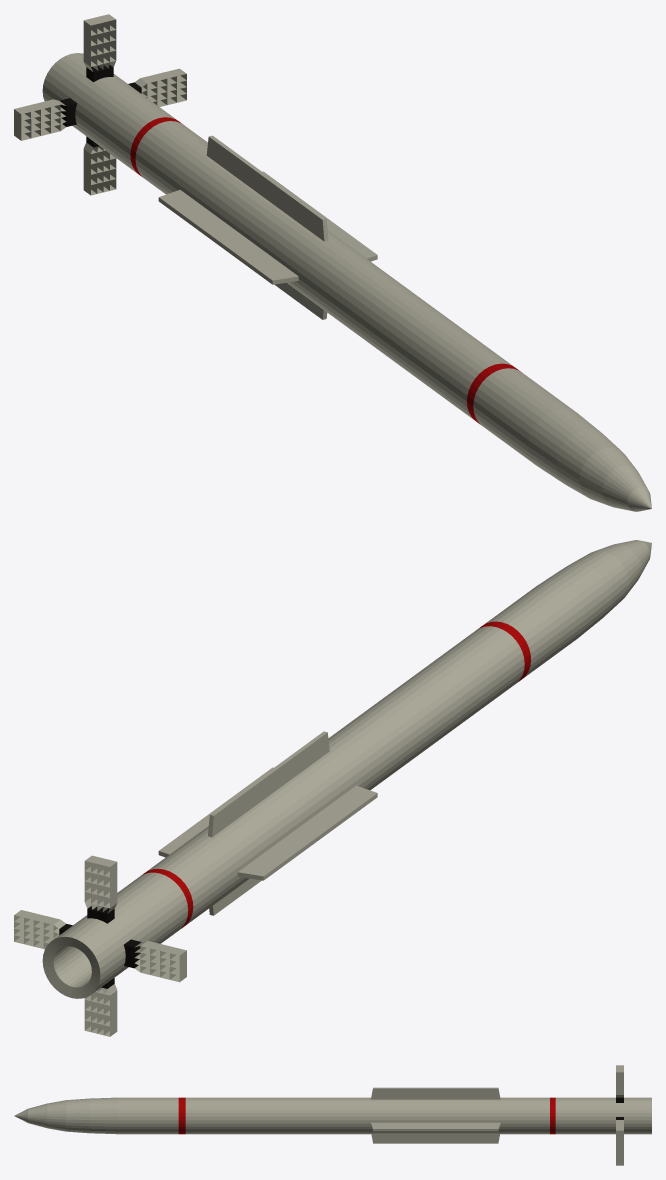
File: missile.obj
3 renders of one model, top to bottom at view 1: azimuth 30°, elevation 25°; view 2: azimuth 150°, elevation 25°; view 3: azimuth 270°, elevation 25°, orthographic. The views are drawn at different scales.
Parts seen in each view (by area): view 1: Cylinder; view 2: Cylinder; view 3: Cylinder.
Boxes of the visible parts, left/top/right/bottom form: Cylinder: left=14, top=14, right=651, bottom=511; Cylinder: left=14, top=540, right=651, bottom=1036; Cylinder: left=14, top=1065, right=651, bottom=1165.
Bounding box in the file's own units: 1.22 × 1.19 × 7.37.
